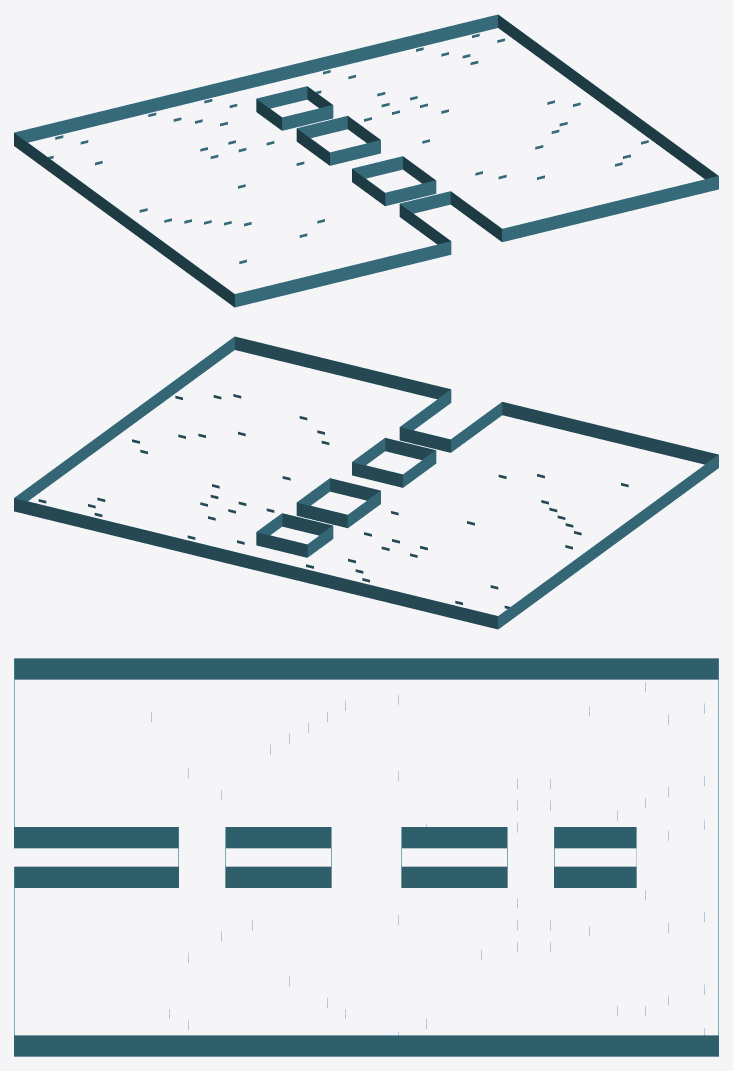
File: glass.dae
3 renders of one model, top to bottom at view 1: azimuth 30°, elevation 25°; view 2: azimuth 150°, elevation 25°; view 3: azimuth 270°, elevation 25°, orthographic. The views are drawn at different scales.
Parts seen in each view (by area): view 1: glass; view 2: glass; view 3: glass.
Part boxes in pixels (x1,y1,x2,y2): glass: (14, 14, 718, 307); glass: (14, 336, 718, 629); glass: (14, 658, 718, 1056).
Size of the model in its own units: 152 by 120 by 4.
